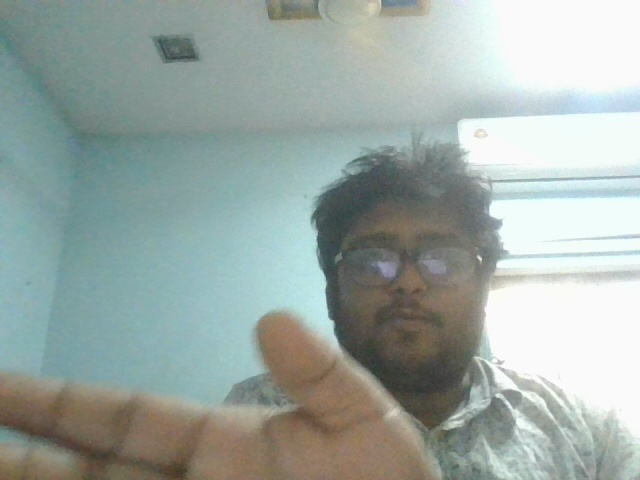RIGHT: (1, 309, 448, 480)
